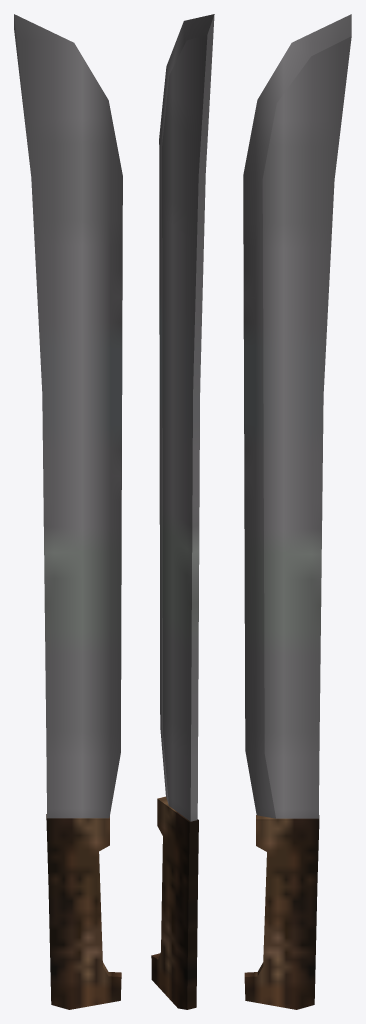
File: machete.dae
3 views of the same model, side by side, from view 1: azimuth 90°, elevation 25°; view 2: azimuth 210°, elevation 25°; view 3: azimuth 270°, elevation 25° (orthographic). The views are drawn at different scales.
Visible parts, largest first — view 1: Machete; view 2: Machete; view 3: Machete.
Part boxes in pixels (x1,y1,x2,y2): Machete: [14, 14, 122, 1009]; Machete: [151, 14, 214, 1009]; Machete: [243, 14, 351, 1009].
Size of the model in its own units: 0.0195 by 0.1999 by 2.02.
